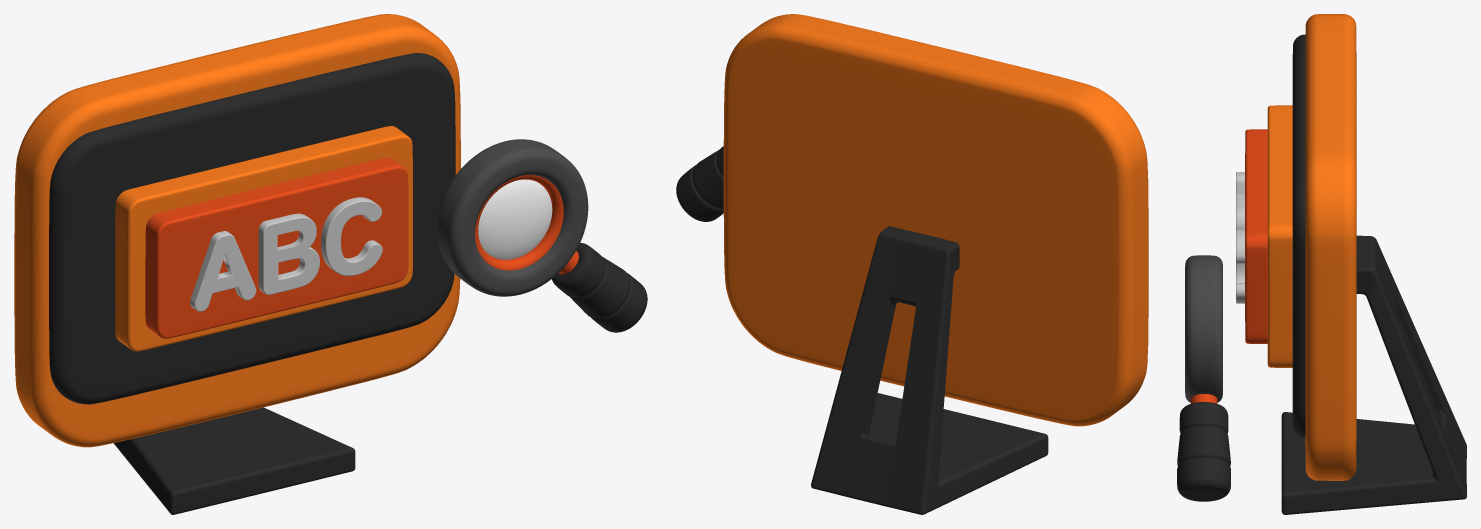
The picture shows the model from 3 angles, left to right: view 1: azimuth 30°, elevation 25°; view 2: azimuth 150°, elevation 25°; view 3: azimuth 270°, elevation 25°; orthographic projection. The views are drawn at different scales.
Parts seen in each view (by area): view 1: Cube.002, Cube.006, Cube.001, Cube.005, Plane, Cylinder, Curve, Cylinder.002, Sphere.001, Cylinder.001; view 2: Cube.006, Plane, Cylinder.002; view 3: Cube.006, Plane, Cube.005, Cube.002, Cylinder, Cube.001, Cylinder.002, Curve.
Part boxes in pixels (<box>): Cube.002: <box>49,53,455,404</box>; Cube.006: <box>14,14,460,447</box>; Cube.001: <box>145,157,408,338</box>; Cube.005: <box>115,126,412,351</box>; Plane: <box>113,407,355,514</box>; Cylinder: <box>437,139,588,296</box>; Curve: <box>190,197,382,311</box>; Cylinder.002: <box>552,242,647,332</box>; Sphere.001: <box>478,179,552,259</box>; Cylinder.001: <box>475,175,563,270</box>; Cube.006: <box>723,14,1148,426</box>; Plane: <box>811,226,1048,514</box>; Cylinder.002: <box>676,146,723,221</box>; Cube.006: <box>1305,14,1356,480</box>; Plane: <box>1281,235,1466,514</box>; Cube.005: <box>1267,105,1292,367</box>; Cube.002: <box>1292,34,1305,437</box>; Cylinder: <box>1185,255,1222,402</box>; Cube.001: <box>1245,129,1267,343</box>; Cylinder.002: <box>1177,402,1230,501</box>; Curve: <box>1236,172,1245,303</box>.
Bounding box in the file's own units: 2.31 × 1.68 × 1.13.
